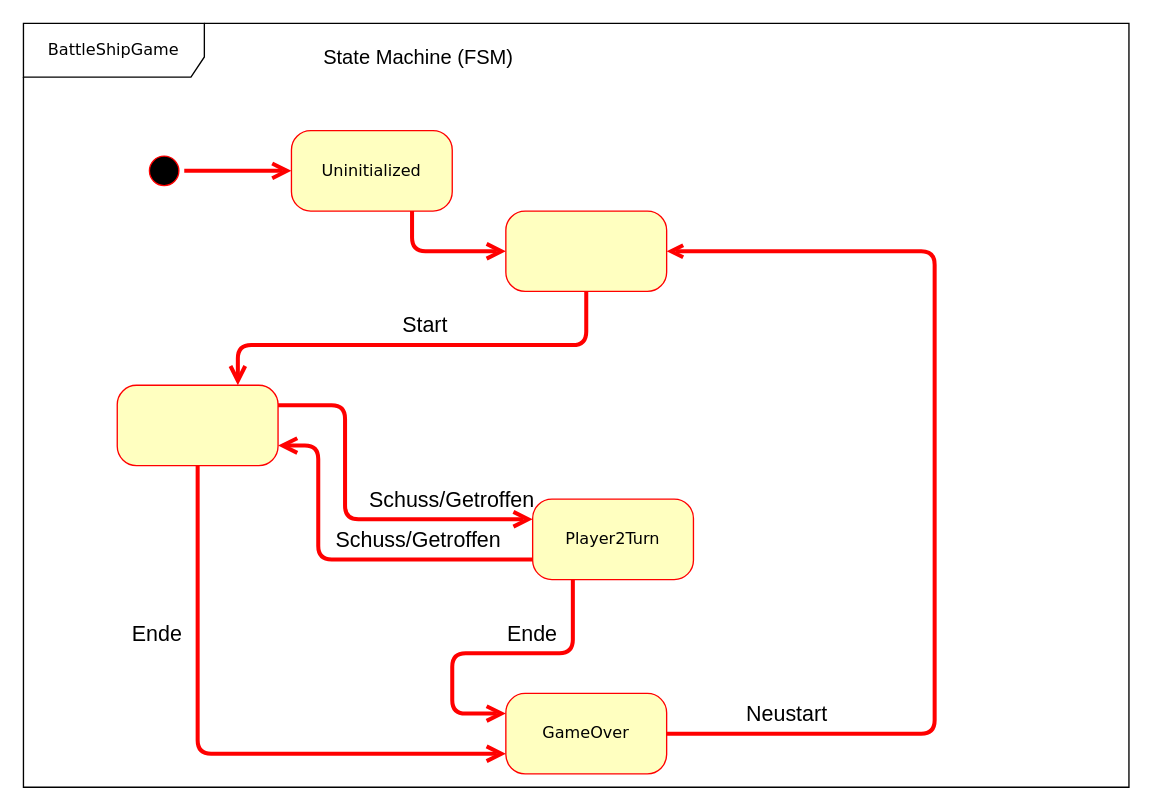
Some shapes in this 1152 by 811 pixel diagram are drawn without their labels. The shapes that lost their labels are listed below. From the top down, each one's centre as x and y in pixels, then its label:
the point at 586,250: Initialized
the point at 197,425: Player1Turn
